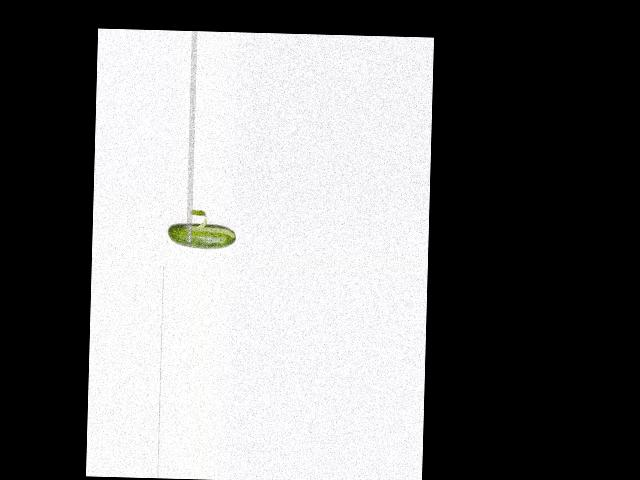cucumber: (167, 221, 236, 249)
